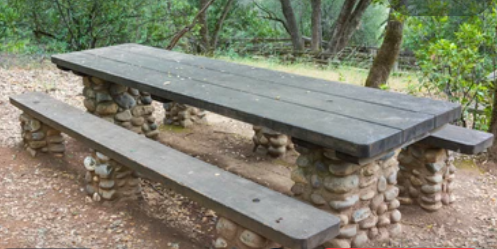obstacle: (10, 40, 493, 244)
